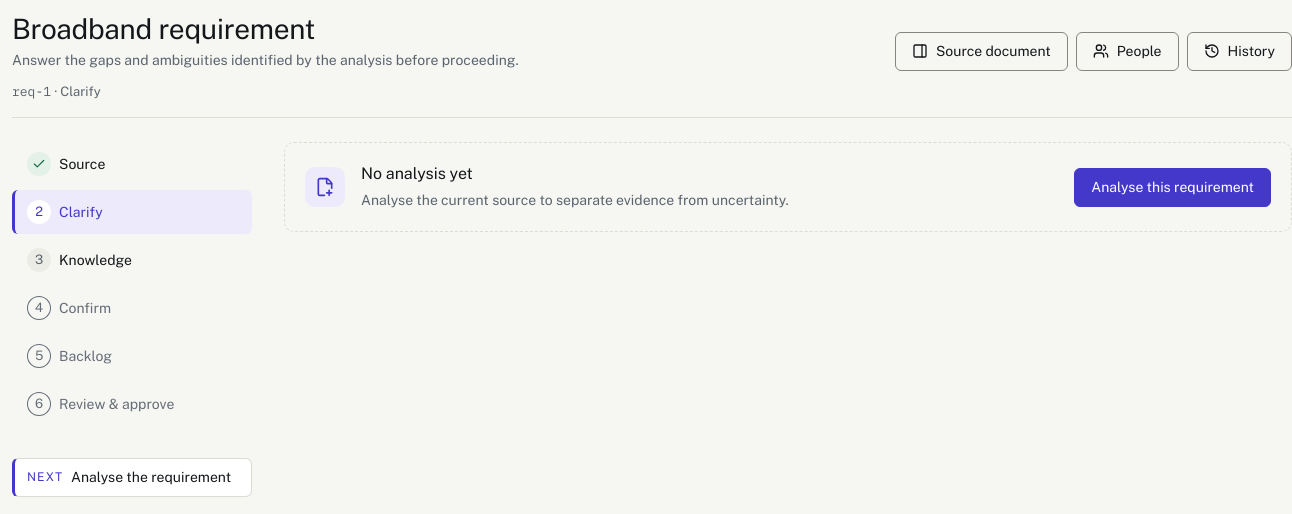
Requirement workspace reads › refreshes a missing analysis token instead of starting the analysis
This screenshot has width=1292, height=514.
Click the button "Analyse this requirement" at coordinates (1173, 187), box [1074,168,1271,207]
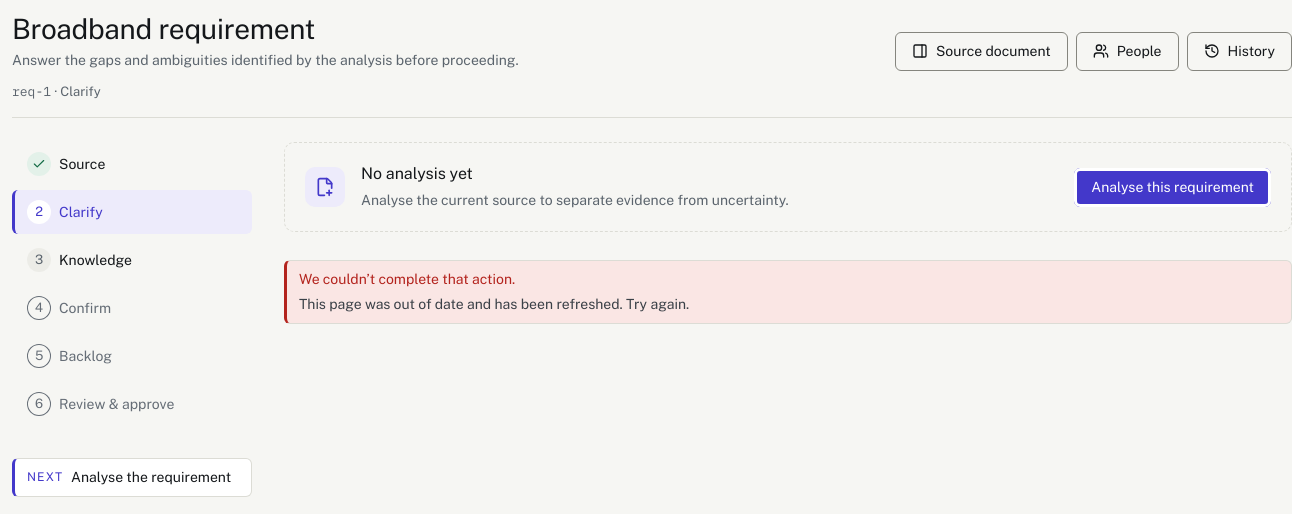
Now the text "This page was out of date and has been refreshed. Try again." is shown, box [299,296,689,312]
